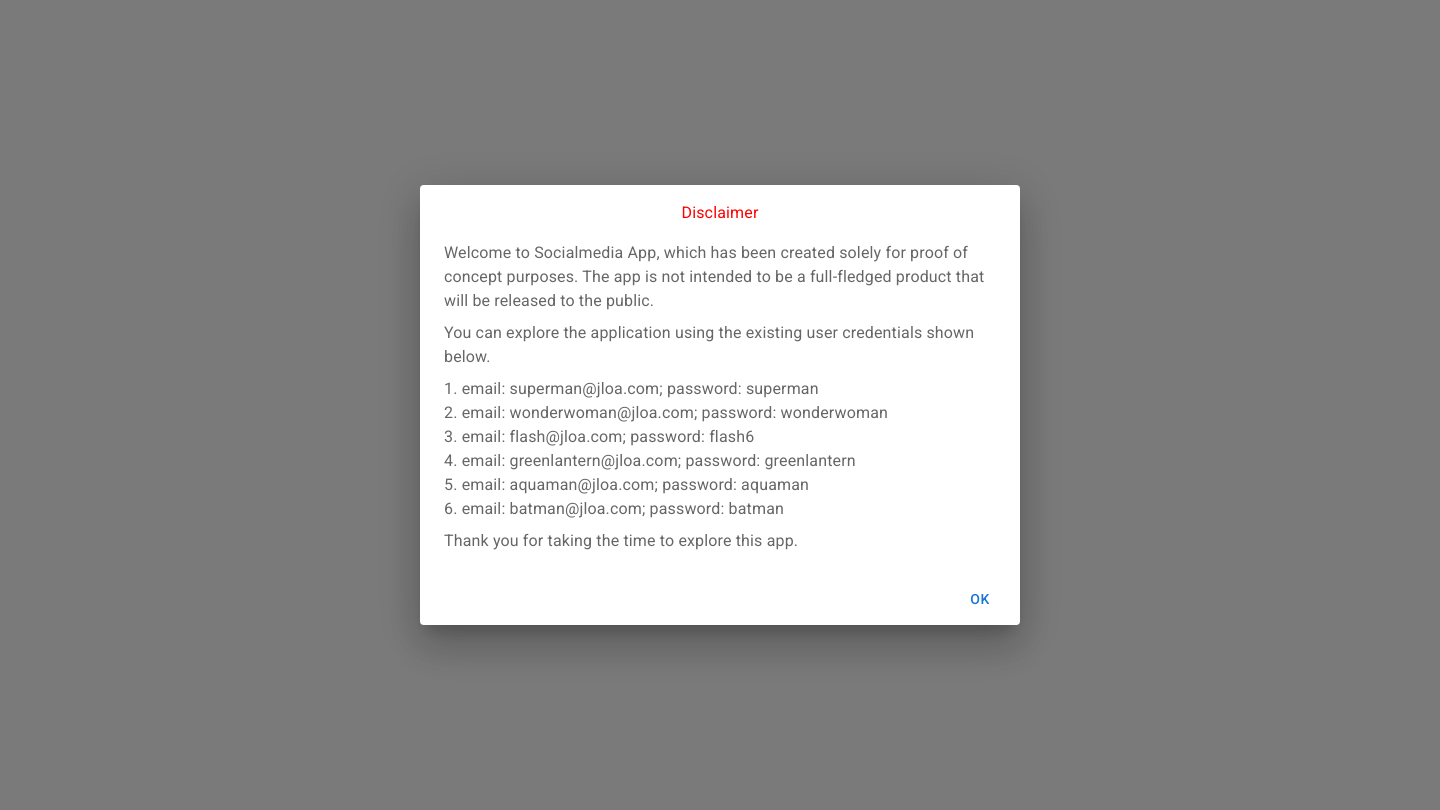
Test: Signin › the disclaimer dialogue box should not remain visible after being dismissed
Click the button "Ok" at (980, 599), box 948,581 -> 1012,617
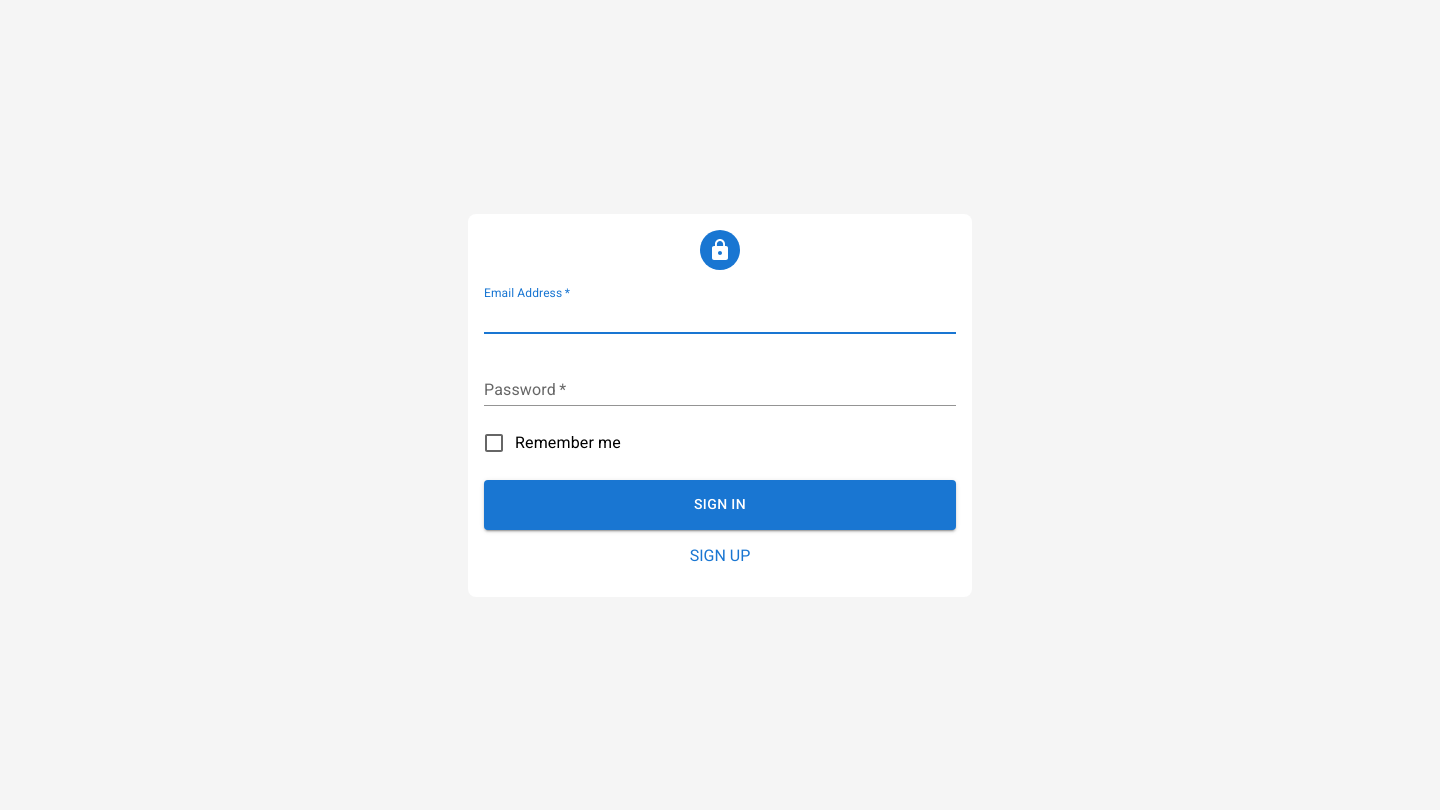
Expected: the text "Disclaimer" is gone
